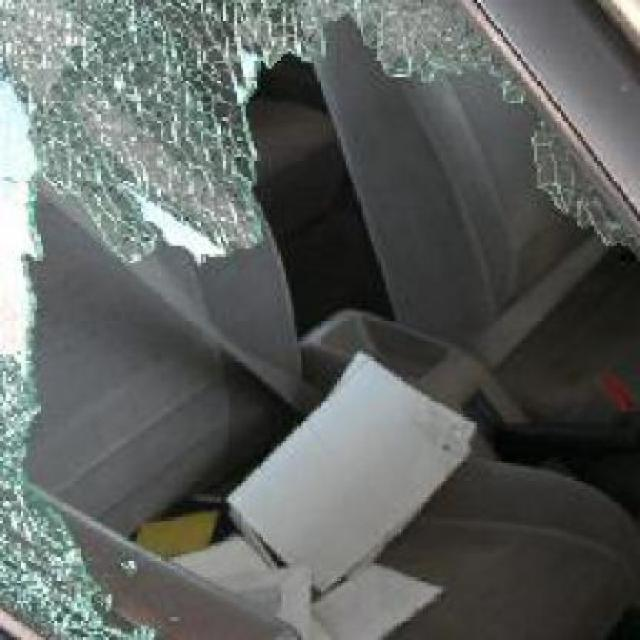damaged-window: (0, 0, 637, 637)
